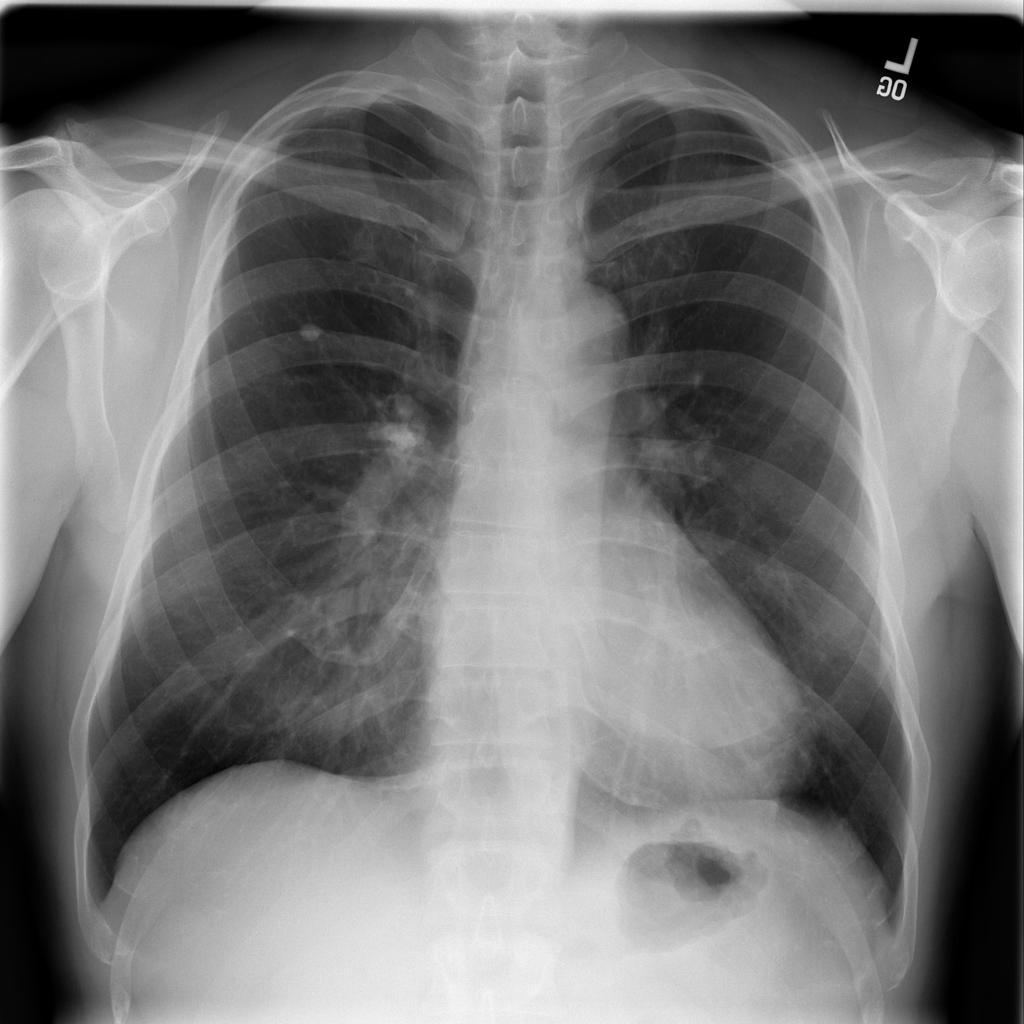nodule: (286, 308, 336, 355)
